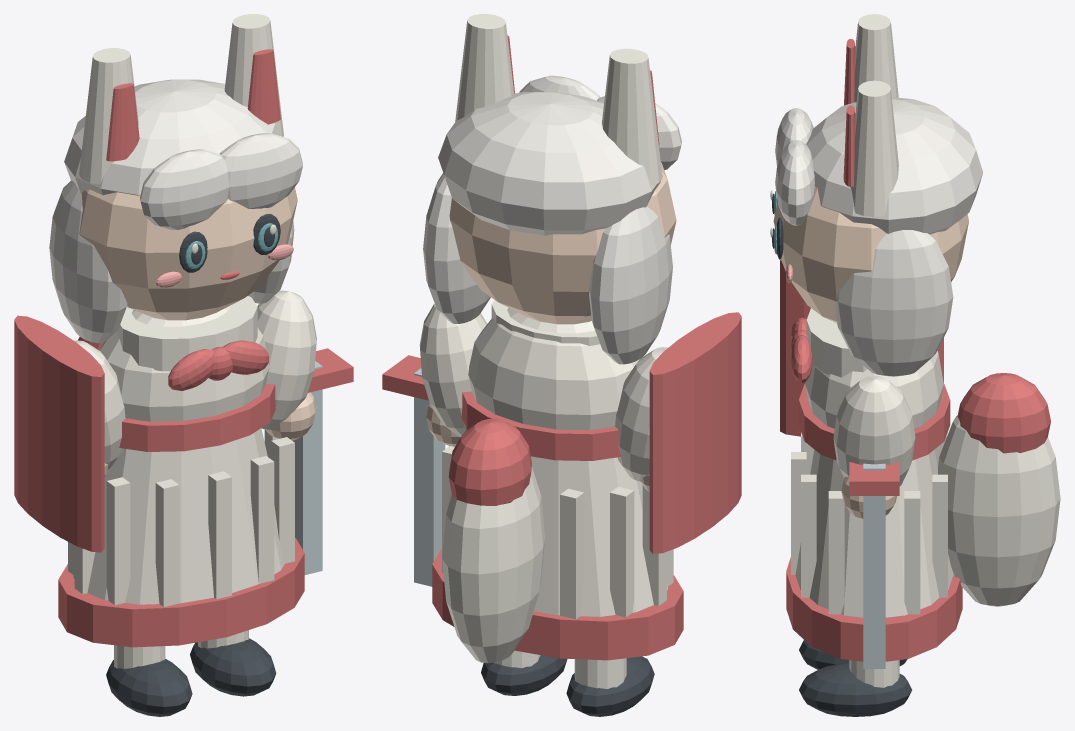
Rendered from Momiji.fbx.
3 views of the same model, side by side, from view 1: azimuth 30°, elevation 25°; view 2: azimuth 150°, elevation 25°; view 3: azimuth 270°, elevation 25° (orthographic). The views are drawn at different scales.
Visible parts, largest first — view 1: Shield, Head, Dress, DressHem, HairCap, Torso, HairSide.001, Sleeve, Fringe.001, Collar, Belt, Fringe (+21 smaller); view 2: HairCap, Shield, Tail, Torso, Head, Dress, HairSide.001, DressHem, WolfTailTip, WolfEar.001, Sleeve, HairSide (+16 smaller); view 3: Tail, HairCap, HairSide, Dress, Head, DressHem, Sleeve, WolfTailTip, WolfEar, Torso, Sword, Shoe (+18 smaller).
Boxes of the visible parts, <box> form: Shield: <box>14,315,104,552</box>; Head: <box>79,187,297,320</box>; Dress: <box>73,428,284,604</box>; DressHem: <box>58,538,304,647</box>; HairCap: <box>64,79,281,195</box>; Torso: <box>100,305,269,421</box>; HairSide.001: <box>49,180,127,343</box>; Sleeve: <box>257,290,316,429</box>; Fringe.001: <box>140,149,229,229</box>; Collar: <box>116,296,257,371</box>; Belt: <box>119,384,275,451</box>; Fringe: <box>220,133,302,208</box>; HairCap: <box>438,92,662,235</box>; Shield: <box>649,312,741,553</box>; Tail: <box>442,467,545,663</box>; Torso: <box>468,308,639,430</box>; Head: <box>449,162,676,324</box>; Dress: <box>531,456,668,616</box>; HairSide.001: <box>589,206,672,364</box>; DressHem: <box>432,549,683,660</box>; WolfTailTip: <box>448,418,531,505</box>; WolfEar.001: <box>602,48,662,185</box>; Sleeve: <box>419,303,487,437</box>; HairSide: <box>423,173,490,323</box>; Tail: <box>938,415,1060,606</box>; HairCap: <box>806,97,983,234</box>; HairSide: <box>834,230,953,376</box>; Dress: <box>795,449,953,617</box>; Head: <box>773,186,968,322</box>; DressHem: <box>786,557,962,661</box>; Sleeve: <box>833,375,915,486</box>; WolfTailTip: <box>957,373,1050,453</box>; WolfEar: <box>850,80,898,216</box>; Torso: <box>805,323,943,428</box>; Sword: <box>863,463,885,668</box>; Shoe: <box>799,663,911,716</box>.
Size of the model in its own units: 109 by 223 by 92.
